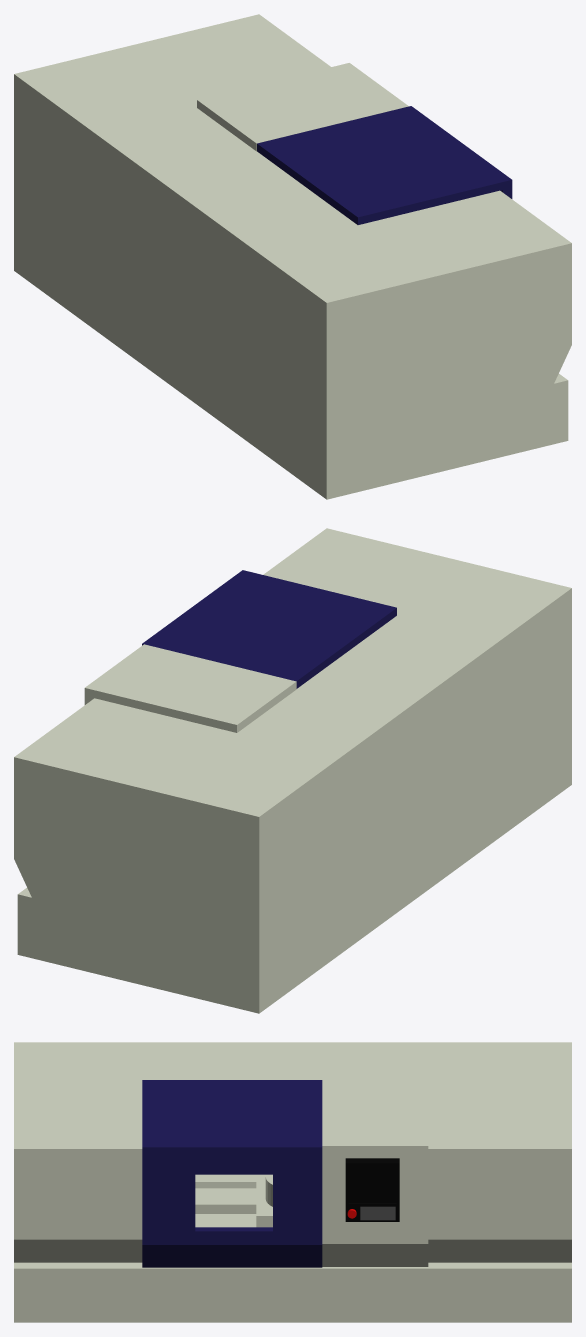
The model's file is PR4_RADCHENKO.fbx.
3 views of the same model, one above another, from view 1: azimuth 30°, elevation 25°; view 2: azimuth 150°, elevation 25°; view 3: azimuth 270°, elevation 25° (orthographic). The views are drawn at different scales.
Visible parts, largest first — view 1: Cube, Cube.003; view 2: Cube, Cube.003; view 3: Cube, Cube.003, Cube.004, Cube.005.
Boxes of the visible parts, x1=… form: Cube: x1=14, y1=14, x2=571, y2=499; Cube.003: x1=257, y1=106, x2=512, y2=224; Cube: x1=14, y1=528, x2=571, y2=1013; Cube.003: x1=142, y1=570, x2=396, y2=688; Cube: x1=14, y1=1042, x2=571, y2=1322; Cube.003: x1=142, y1=1080, x2=322, y2=1267; Cube.004: x1=345, y1=1158, x2=399, y2=1221; Cube.005: x1=360, y1=1206, x2=395, y2=1220.
Size of the model in its own units: 546 by 401 by 1111.
